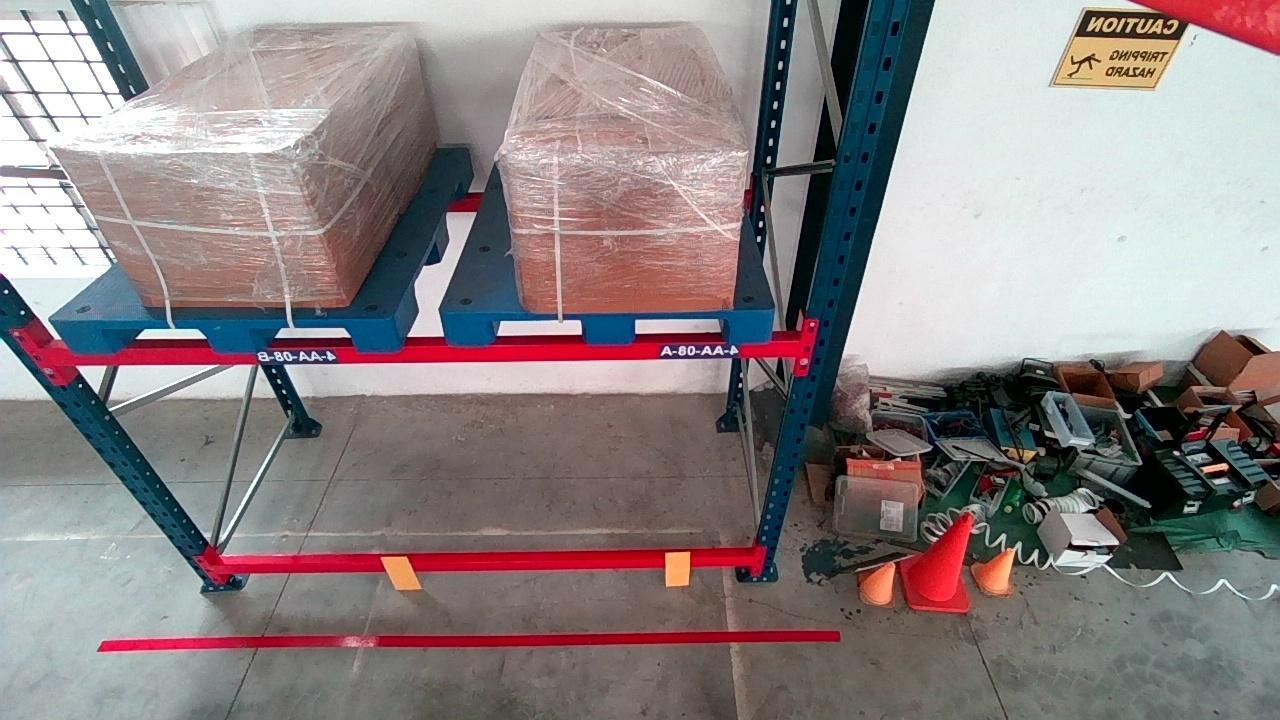h_rack: (44, 343, 806, 365), (215, 551, 753, 577)
orange_strip: (383, 553, 421, 589), (663, 550, 693, 584)
red_line: (96, 628, 844, 652)
small_pallet: (71, 317, 396, 353), (449, 310, 775, 344)
